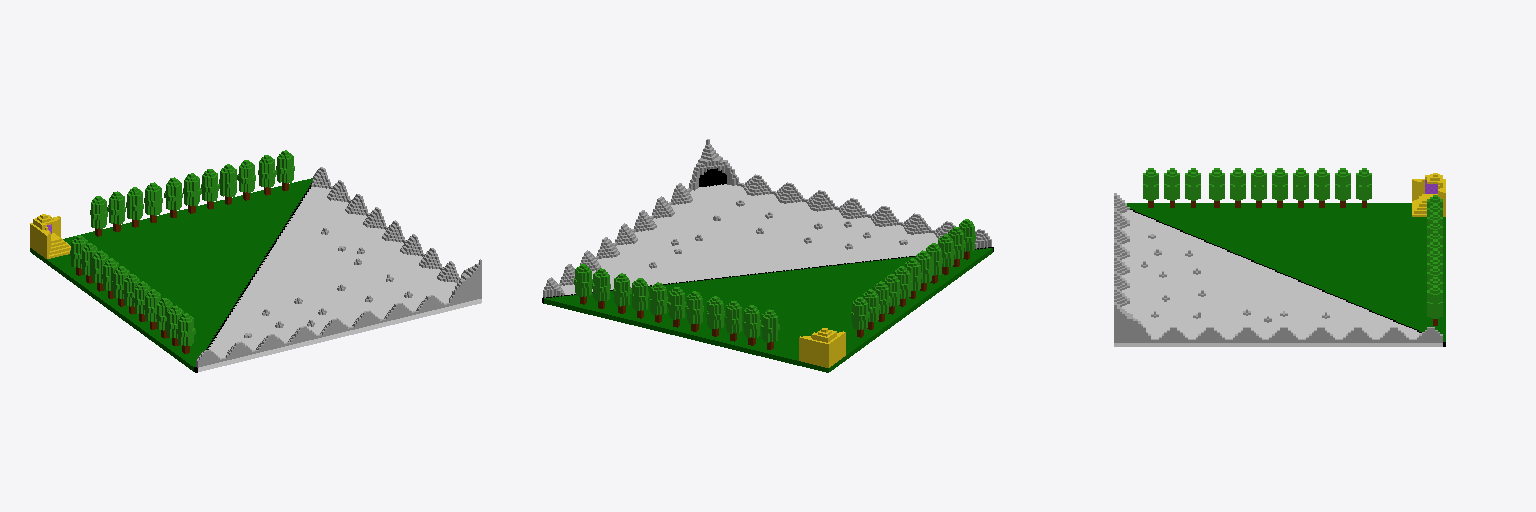
3 views of the same model, side by side, from view 1: azimuth 30°, elevation 25°; view 2: azimuth 150°, elevation 25°; view 3: azimuth 270°, elevation 25° (orthographic).
Visible parts, largest first — view 1: object 1; view 2: object 1; view 3: object 1.
Part boxes in pixels (x1,y1,x2,y2): object 1: (30, 150, 481, 372); object 1: (542, 139, 993, 372); object 1: (1114, 168, 1445, 346).
Size of the model in its own units: 12.6 by 1.8 by 12.6.
1 materials, 1 textured.